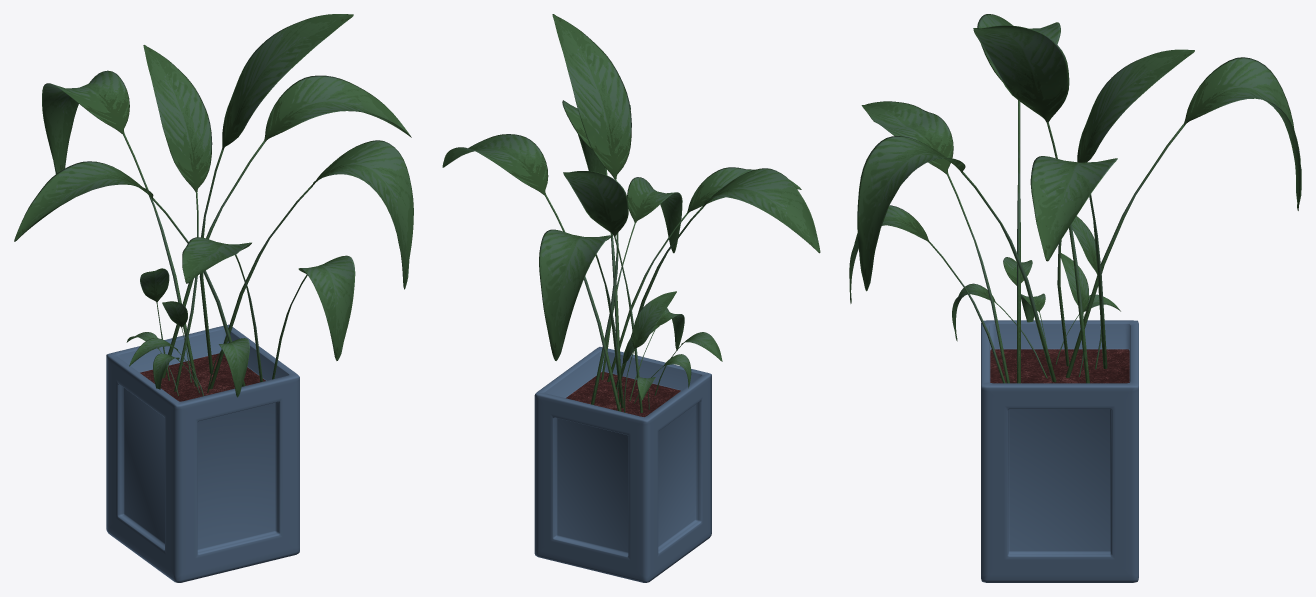
Rendered from plant.glb.
3 views of the same model, side by side, from view 1: azimuth 30°, elevation 25°; view 2: azimuth 150°, elevation 25°; view 3: azimuth 270°, elevation 25° (orthographic). The views are drawn at different scales.
Visible parts, largest first — view 1: Plant_10_pot, Plant_10; view 2: Plant_10_pot, Plant_10; view 3: Plant_10_pot, Plant_10.
Part boxes in pixels (left/top/right/bottom): Plant_10_pot: left=106, top=324, right=299, bottom=582; Plant_10: left=14, top=14, right=413, bottom=397; Plant_10_pot: left=534, top=347, right=711, bottom=582; Plant_10: left=442, top=14, right=820, bottom=412; Plant_10_pot: left=981, top=320, right=1138, bottom=582; Plant_10: left=849, top=14, right=1301, bottom=383.
Size of the model in its own units: 1.11 by 1.39 by 0.9747.
Materials: 3 (2 with a texture image).
